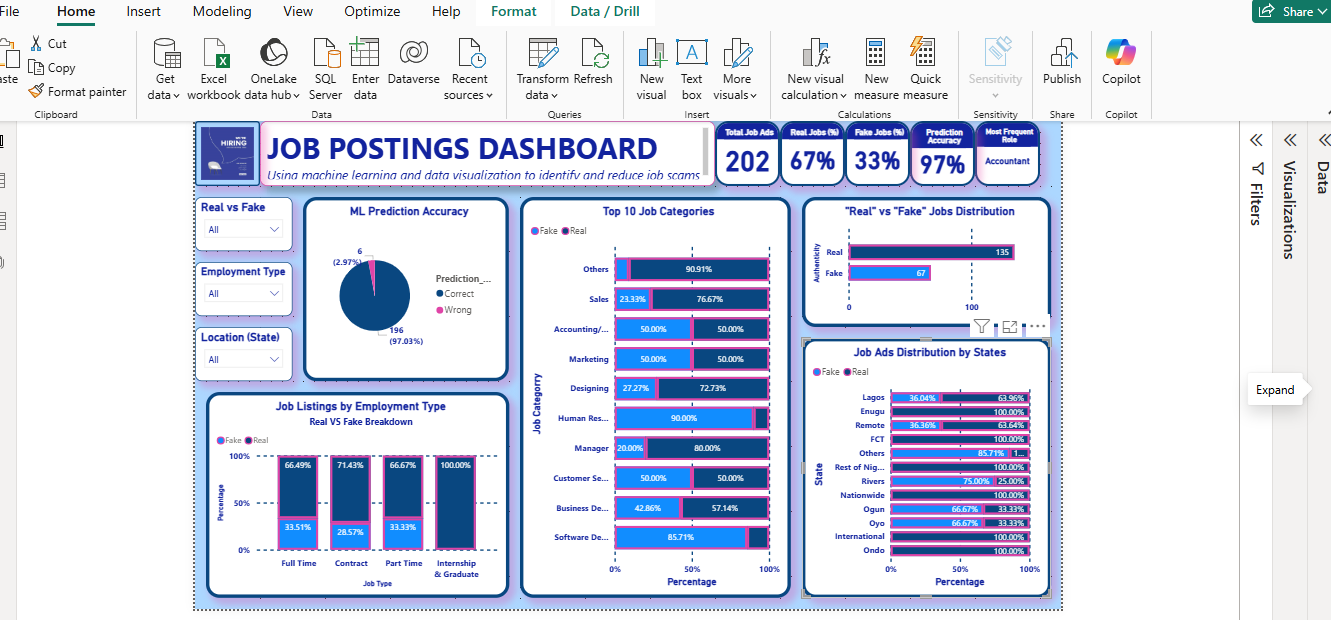

The page's visual inventory and layout, read from the dashboard file:
{"tool":"powerbi","page":{"name":"Dashboard","canvas":[1280,720],"ordinal":0},"visuals":[{"type":"textbox","box":[96,0,672,96],"z":0},{"type":"card","title":"Total Job Ads","fields":{"Values":["newjoblistings.Total Jobs"]},"box":[768,0,96,96],"z":1000},{"type":"card","title":"Most Frequent Role","fields":{"Values":["Min(newjoblistings.job_title)"]},"box":[1152,0,96,96],"z":2000},{"type":"card","title":"Prediction Accuracy","fields":{"Values":["newjoblistings.Prediction Accuracy"]},"box":[1056,0,96,96],"z":3000},{"type":"card","title":"Real Jobs (%)","fields":{"Values":["newjoblistings.Real Jobs (%)"]},"box":[864,0,96,96],"z":4000},{"type":"card","title":"Fake Jobs (%)","fields":{"Values":["newjoblistings.Fake Jobs (%)"]},"box":[960,0,96,96],"z":5000},{"type":"image","box":[0,0,96,96],"z":6000},{"type":"clusteredBarChart","title":"\"Real\" vs \"Fake\" Jobs Distribution","fields":{"Category":["newjoblistings.label_text"],"Y":["CountNonNull(newjoblistings.job_title)"]},"box":[896,112,368,192],"z":6001},{"type":"pieChart","title":"ML Prediction Accuracy","fields":{"Category":["newjoblistings.Prediction_Accuracy"],"Y":["CountNonNull(newjoblistings.label)"]},"box":[160,112,304,272],"z":6002},{"type":"hundredPercentStackedColumnChart","title":"Job Listings by Employment Type","fields":{"Category":["newjoblistings.employment_type"],"Y":["CountNonNull(newjoblistings.job_title)"],"Series":["newjoblistings.label_text"]},"box":[16,400,448,304],"z":6003},{"type":"hundredPercentStackedBarChart","title":"Top 10 Job Categories","fields":{"Category":["newjoblistings.Job Category"],"Series":["newjoblistings.label_text"],"Y":["CountNonNull(newjoblistings.job_title)"]},"box":[480,112,400,592],"z":6004},{"type":"hundredPercentStackedBarChart","title":"Job Ads Distribution by States","fields":{"Category":["newjoblistings.State"],"Series":["newjoblistings.label_text"],"Y":["CountNonNull(newjoblistings.job_title)"]},"box":[896,320,368,384],"z":6005},{"type":"slicer","title":"Real vs Fake","fields":{"Values":["newjoblistings.label_text"]},"box":[0,112,144,80],"z":6006},{"type":"slicer","title":"Employment Type","fields":{"Values":["newjoblistings.employment_type"]},"box":[0,208,144,80],"z":6007},{"type":"slicer","title":"Location (State)","fields":{"Values":["newjoblistings.State"]},"box":[0,304,144,80],"z":6008}]}

Visuals, with their boxes on the page's 1280x720 design canvas (x1, y1, x2, y2). These are canvas units, not pixel positions in the 1331x620 screenshot, which may show the page scaled, cropped or inside an application window:
textbox: bbox=[96, 0, 768, 96]
"Total Job Ads" card: bbox=[768, 0, 864, 96]
"Most Frequent Role" card: bbox=[1152, 0, 1248, 96]
"Prediction Accuracy" card: bbox=[1056, 0, 1152, 96]
"Real Jobs (%)" card: bbox=[864, 0, 960, 96]
"Fake Jobs (%)" card: bbox=[960, 0, 1056, 96]
image: bbox=[0, 0, 96, 96]
""Real" vs "Fake" Jobs Distribution" clusteredBarChart: bbox=[896, 112, 1264, 304]
"ML Prediction Accuracy" pieChart: bbox=[160, 112, 464, 384]
"Job Listings by Employment Type" hundredPercentStackedColumnChart: bbox=[16, 400, 464, 704]
"Top 10 Job Categories" hundredPercentStackedBarChart: bbox=[480, 112, 880, 704]
"Job Ads Distribution by States" hundredPercentStackedBarChart: bbox=[896, 320, 1264, 704]
"Real vs Fake" slicer: bbox=[0, 112, 144, 192]
"Employment Type" slicer: bbox=[0, 208, 144, 288]
"Location (State)" slicer: bbox=[0, 304, 144, 384]
